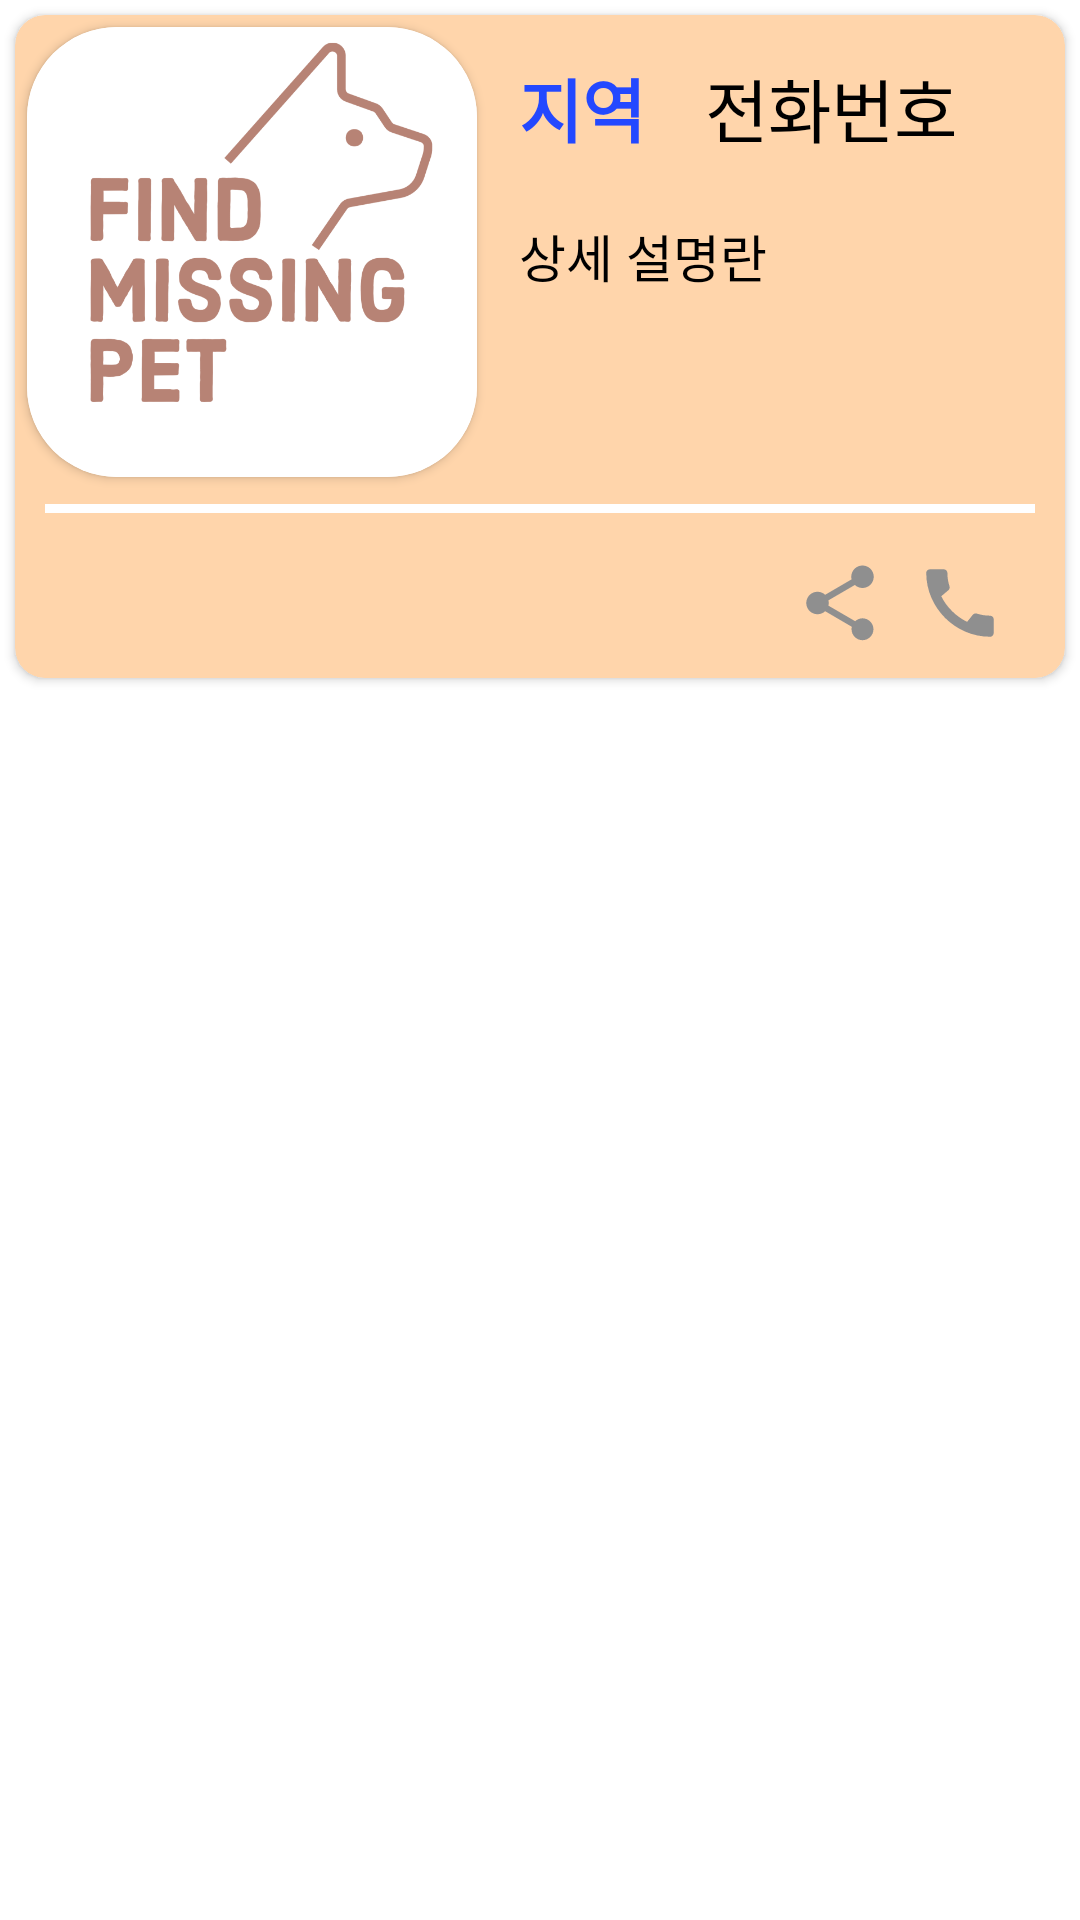

Icon click points for this 1080x1920 phone screenshot, format [x,y]:
call: [960,603]
share: [840,603]
